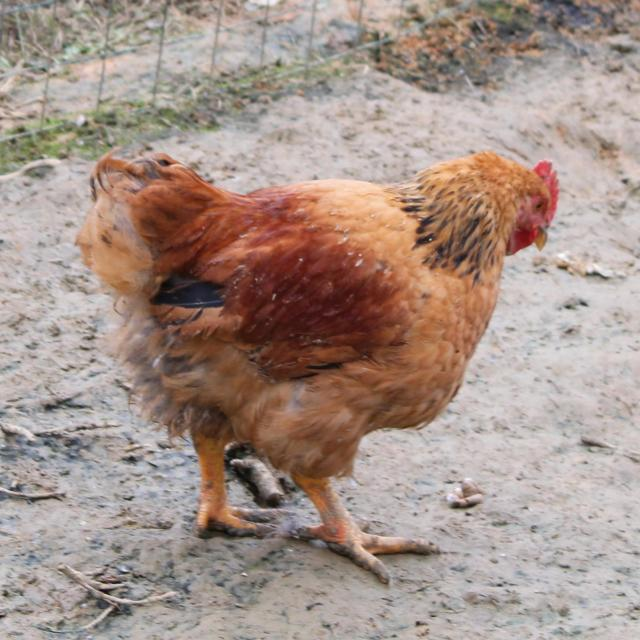hen: (10, 50, 567, 601)
